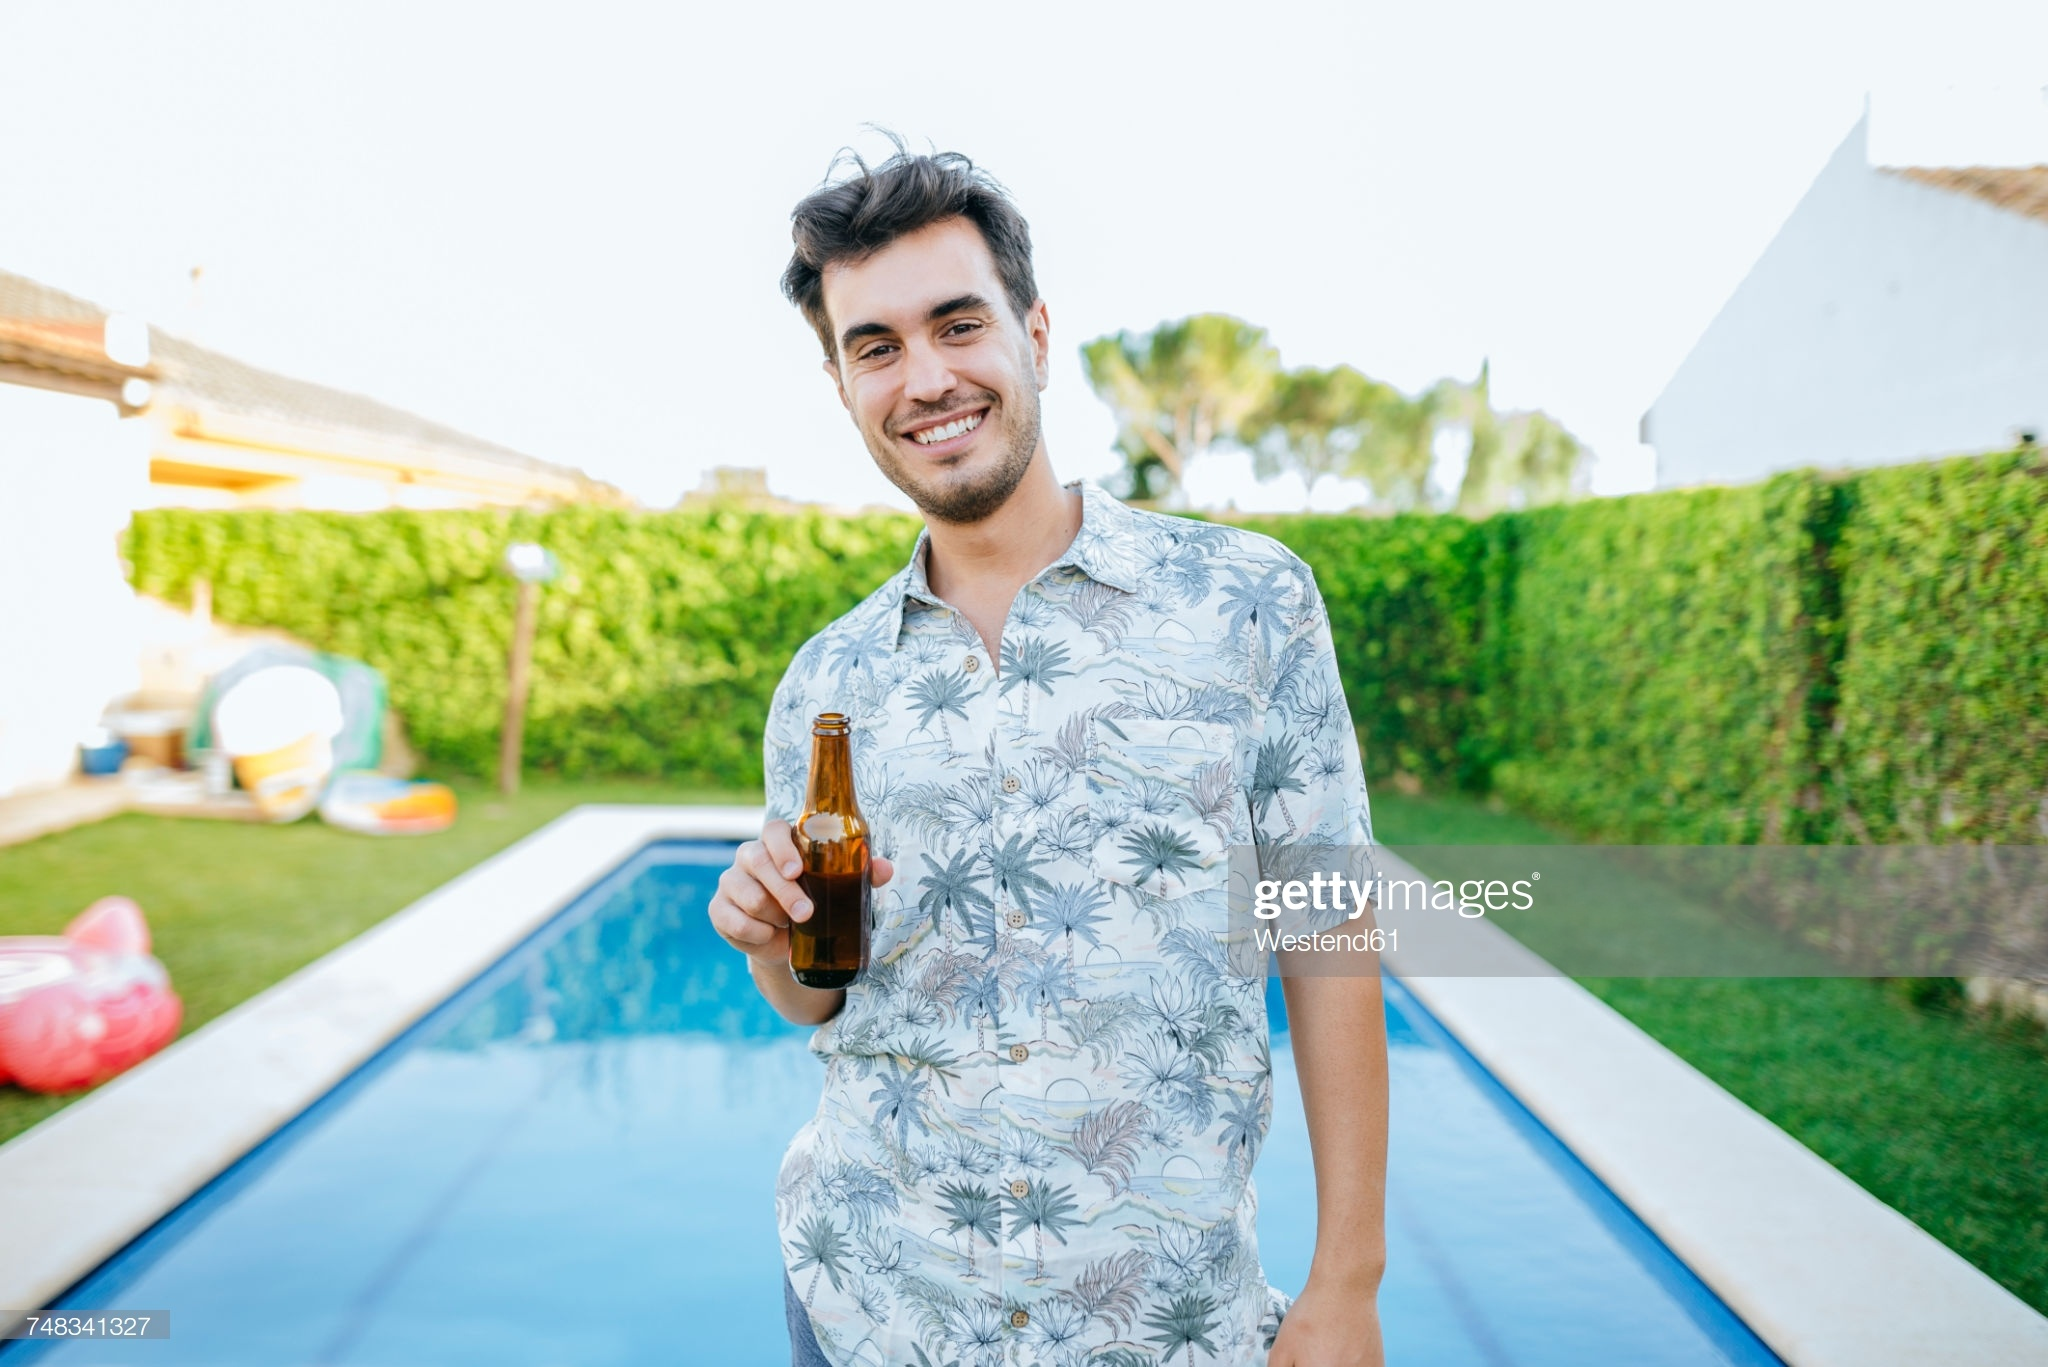beerBottle: (782, 709, 878, 1008)
